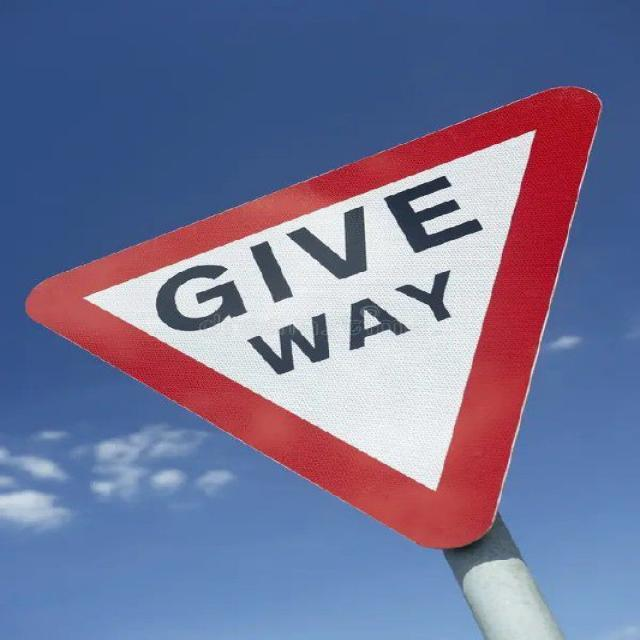give way: (29, 85, 595, 555)
